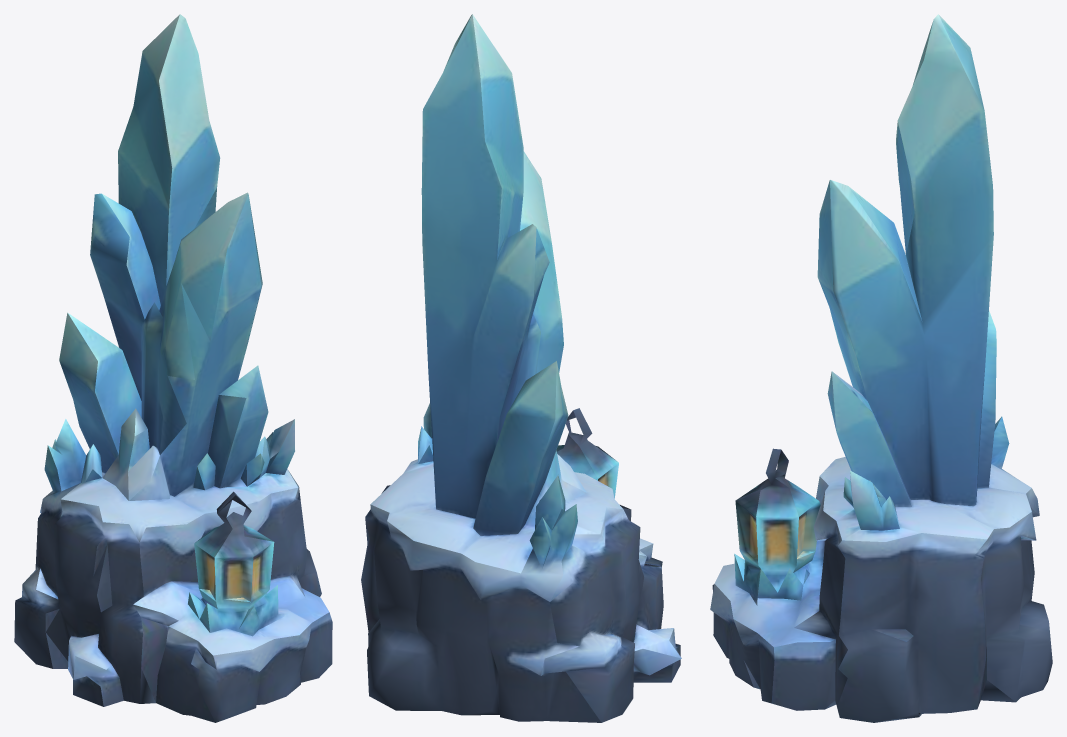
The model's file is d_givre_repere.glb.
3 views of the same model, side by side, from view 1: azimuth 30°, elevation 25°; view 2: azimuth 150°, elevation 25°; view 3: azimuth 270°, elevation 25° (orthographic). The views are drawn at different scales.
Visible parts, largest first — view 1: geometry_0; view 2: geometry_0; view 3: geometry_0.
Boxes of the visible parts, box(x1,y1,x2,y2) form: geometry_0: box(14, 14, 332, 722); geometry_0: box(361, 14, 681, 722); geometry_0: box(710, 14, 1052, 722).
Bounding box in the file's own units: 0.4349 × 1 × 0.4739.
Materials: 1 (1 with a texture image).
